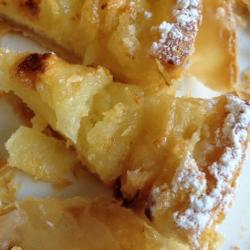apple_pie: (5, 48, 243, 230)
